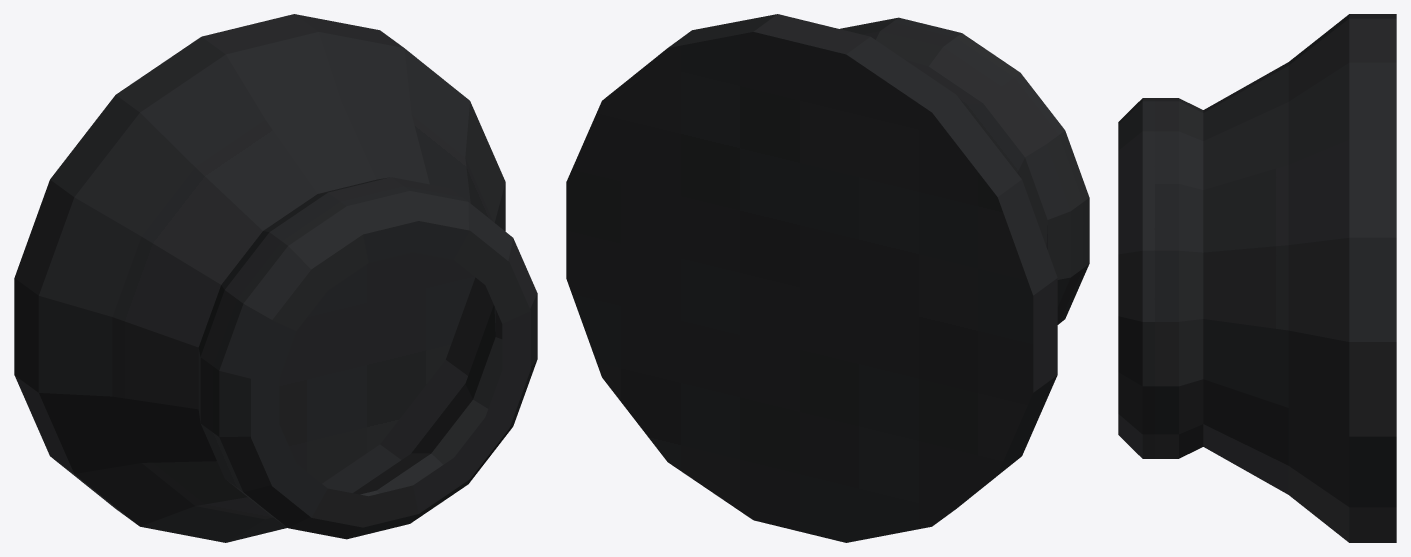
The model's file is decopole_calheights_tenon_n.obj.
3 views of the same model, side by side, from view 1: azimuth 30°, elevation 25°; view 2: azimuth 150°, elevation 25°; view 3: azimuth 270°, elevation 25° (orthographic). The views are drawn at different scales.
Parts seen in each view (by area): view 1: decopole_calheights_tenon_n; view 2: decopole_calheights_tenon_n; view 3: decopole_calheights_tenon_n.
Part boxes in pixels (x1=…): decopole_calheights_tenon_n: x1=14, y1=14, x2=537, y2=542; decopole_calheights_tenon_n: x1=566, y1=14, x2=1089, y2=542; decopole_calheights_tenon_n: x1=1118, y1=14, x2=1396, y2=542.
Size of the model in its own units: 0.5394 by 0.5394 by 0.2862.
